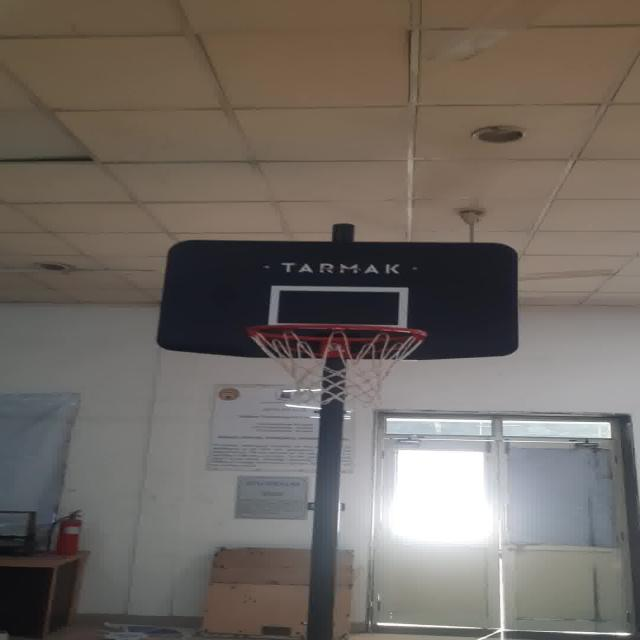objects: (245, 311, 438, 411), (269, 286, 408, 330)
